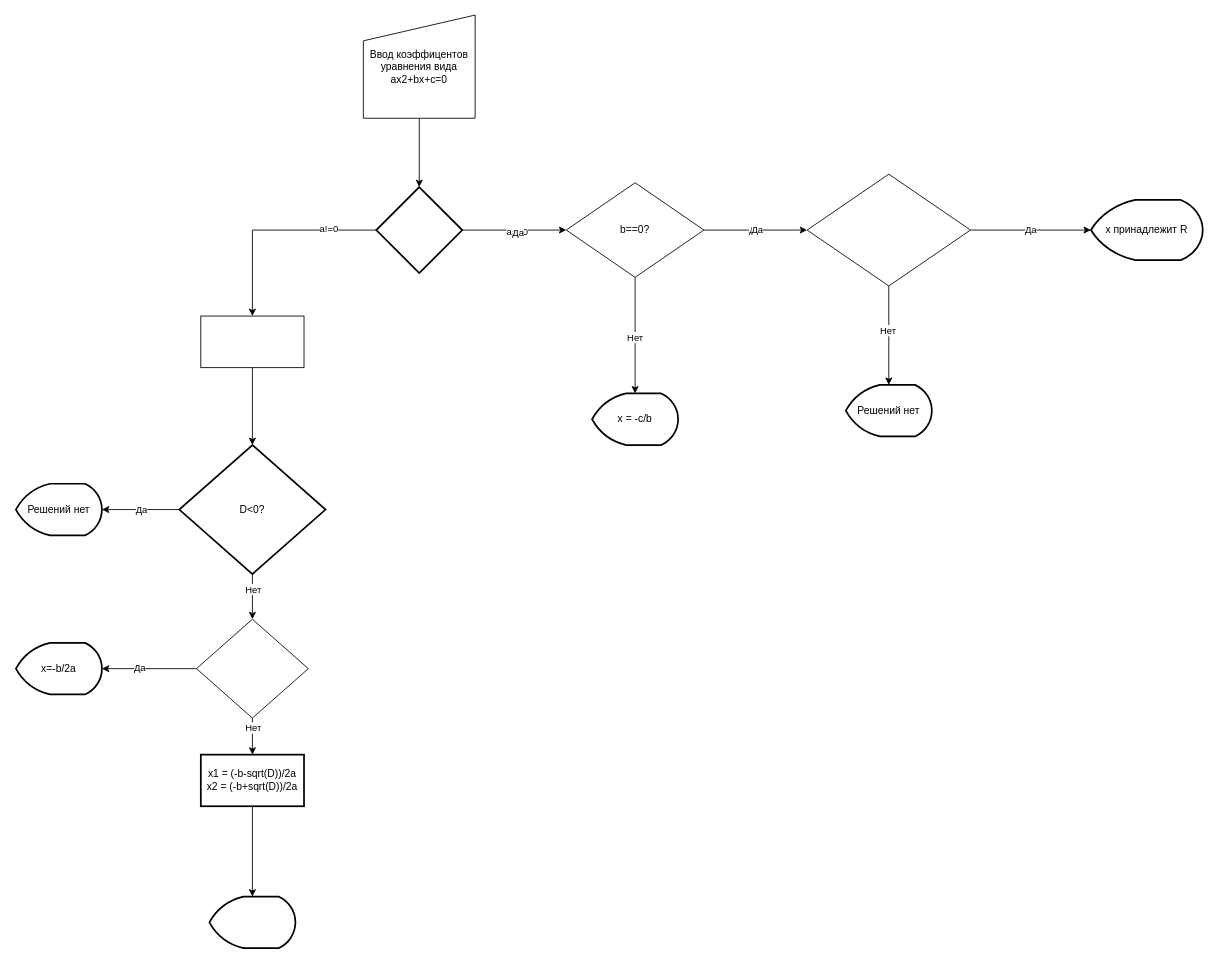
Image size: 1218x964. Some labels were removed from this diagram. Here are the shapes that lost their labels. From the top down, the centre of each, then its label:
the point at 419,229: a==0?
the point at 888,229: c==0?
the point at 252,341: D=b2-4ac
the point at 252,668: D==0?
the point at 252,922: x1, x2
